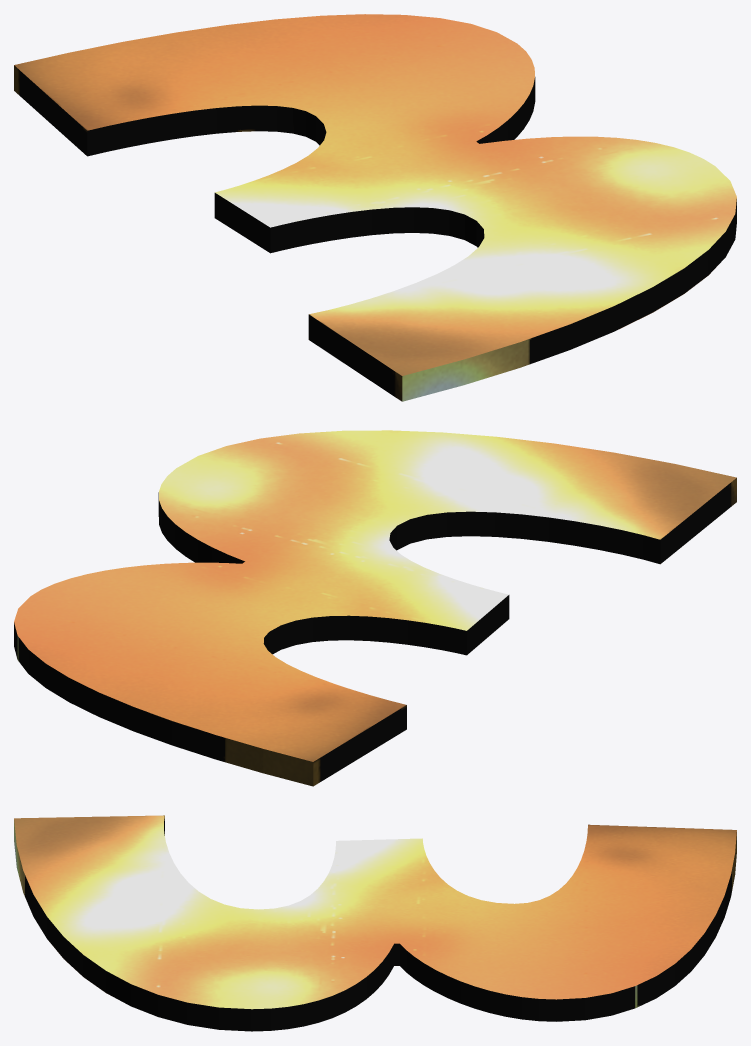
File: Number3.fbx
The picture shows the model from 3 angles, top to bottom: view 1: azimuth 30°, elevation 25°; view 2: azimuth 150°, elevation 25°; view 3: azimuth 270°, elevation 25°; orthographic projection. The views are drawn at different scales.
Visible parts, largest first — view 1: 3; view 2: 3; view 3: 3.
Boxes of the visible parts, bbox=[...] form: 3: bbox=[14, 14, 736, 401]; 3: bbox=[14, 430, 736, 786]; 3: bbox=[14, 815, 736, 1031].
Bounding box in the file's own units: 1.05 × 0.0566 × 1.66.
1 material, 1 textured.
